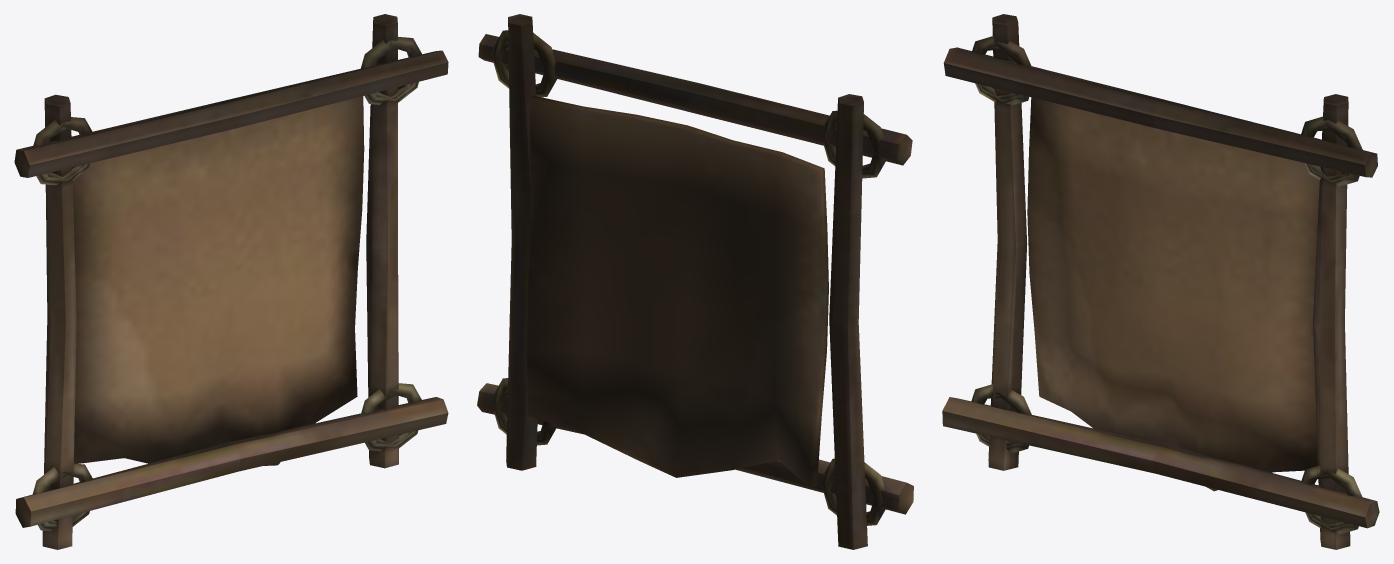
The model's file is granary_hatch.gltf.
3 renders of one model, left to right at view 1: azimuth 30°, elevation 25°; view 2: azimuth 150°, elevation 25°; view 3: azimuth 330°, elevation 25°, orthographic.
Parts seen in each view (by area): view 1: granary_hatch; view 2: granary_hatch; view 3: granary_hatch.
Boxes of the visible parts, box(x1,y1,x2,y2) form: granary_hatch: box(14, 14, 448, 549); granary_hatch: box(477, 14, 913, 549); granary_hatch: box(942, 14, 1379, 549).
Size of the model in its own units: 0.6459 by 0.65 by 0.0945.
Materials: 3 (3 with a texture image).
